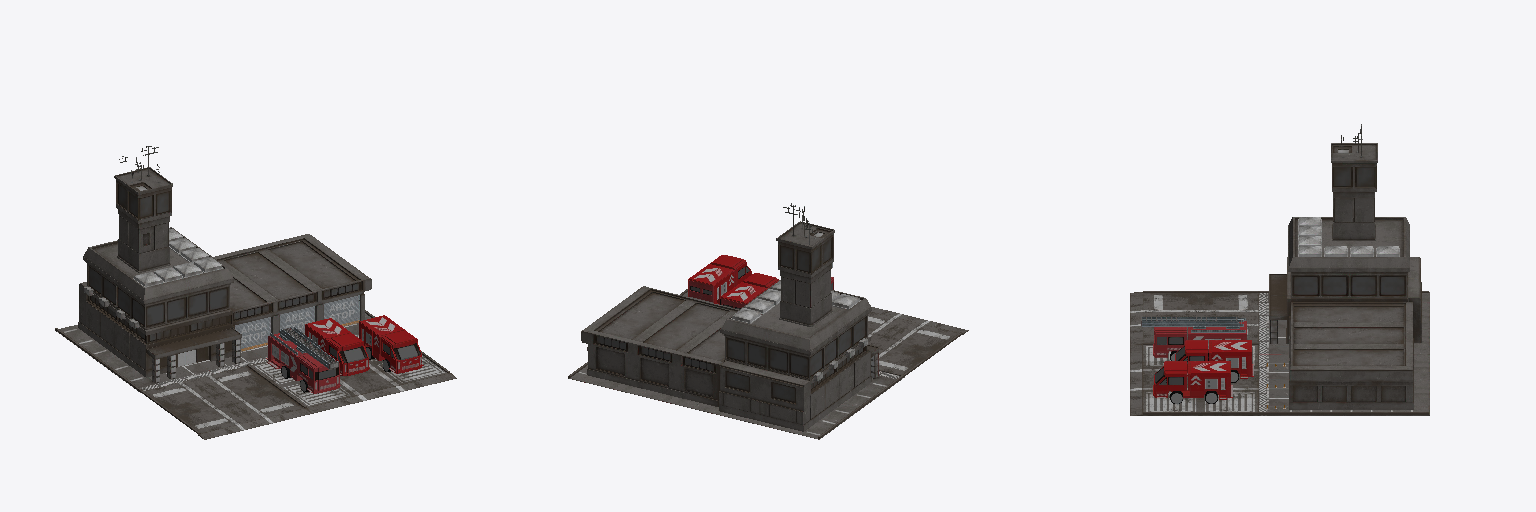
The picture shows the model from 3 angles: view 1: azimuth 30°, elevation 25°; view 2: azimuth 150°, elevation 25°; view 3: azimuth 270°, elevation 25°; orthographic projection.
Visible parts, largest first — view 1: defaultMaterial.001, defaultMaterial; view 2: defaultMaterial.001, defaultMaterial; view 3: defaultMaterial.001, defaultMaterial.
Part boxes in pixels (x1,y1,x2,y2): defaultMaterial.001: (55, 146, 423, 393); defaultMaterial: (55, 310, 456, 439); defaultMaterial.001: (568, 203, 904, 439); defaultMaterial: (568, 289, 968, 438); defaultMaterial.001: (1141, 124, 1429, 415); defaultMaterial: (1130, 291, 1428, 415).
Bounding box in the file's own units: 209 × 156 × 214.
2 materials, 2 textured.